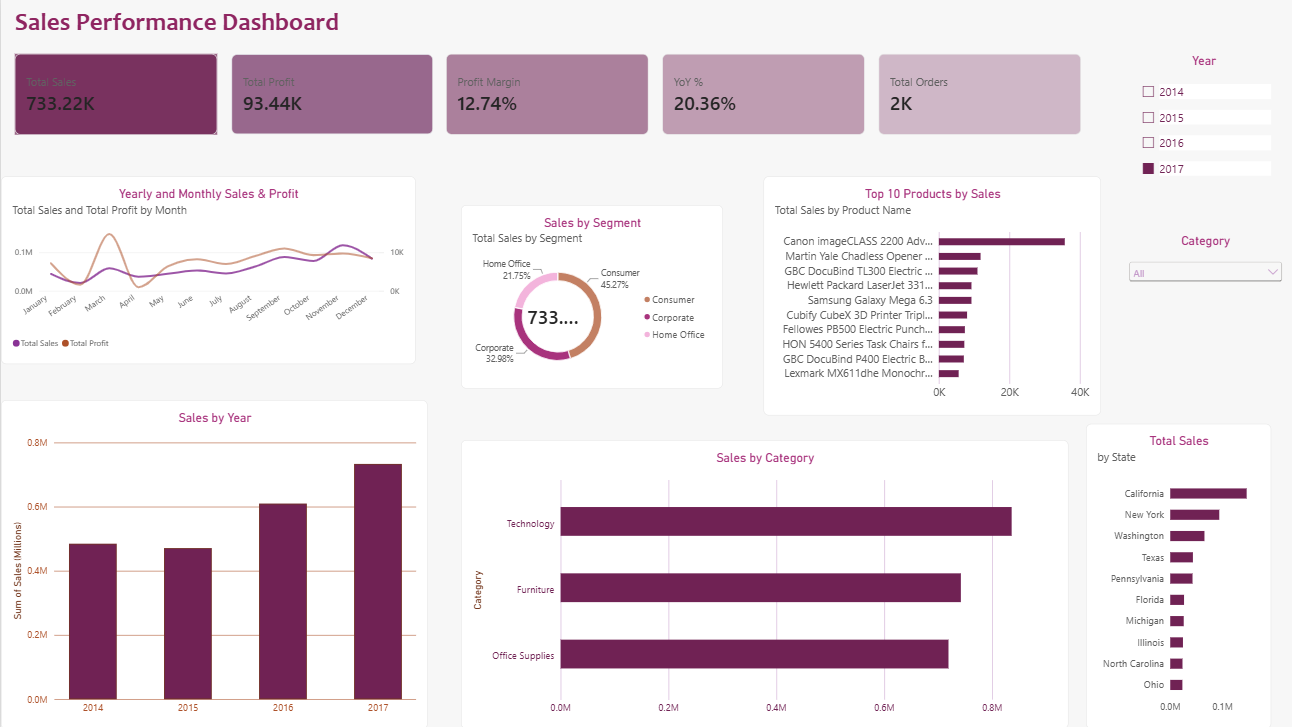

The page's visual inventory and layout, read from the dashboard file:
{"tool":"powerbi","page":{"name":"Page 1","canvas":[1920,1080],"ordinal":0},"visuals":[{"type":"cardVisual","title":"Profit Margin ","fields":{"Data":["sales_cleaned.Profit Margin"]},"box":[660,80,300,120],"z":0},{"type":"cardVisual","title":"Total Profit ","fields":{"Data":["sales_cleaned.Total Profit"]},"box":[340,80,300,120],"z":1000},{"type":"cardVisual","title":"Total Sales ","fields":{"Data":["sales_cleaned.Total Sales"]},"box":[20,80,300,120],"z":2000},{"type":"clusteredColumnChart","title":"Sales by Year ","fields":{"Category":["sales_cleaned.Order Date.Variation.Date Hierarchy.Year"],"Y":["Sum(sales_cleaned.Sales)"]},"box":[0,592,632,488],"z":3000},{"type":"clusteredBarChart","title":"Sales by Category","fields":{"Category":["sales_cleaned.Category"],"Y":["Sum(sales_cleaned.Sales)"]},"box":[682,652,900,428],"z":4000},{"type":"slicer","title":"Year","fields":{"Values":["sales_cleaned.Order Year"]},"box":[1684,80,198,262],"z":5000},{"type":"slicer","title":"Category","fields":{"Values":["sales_cleaned.Category"]},"box":[1684,324,236,268],"z":6000},{"type":"lineChart","title":"Yearly and Monthly Sales & Profit","fields":{"Category":["sales_cleaned.Order Date.Variation.Date Hierarchy.Year","sales_cleaned.Order Date.Variation.Date Hierarchy.Month"],"Y":["sales_cleaned.Total Sales"],"Y2":["sales_cleaned.Total Profit"]},"box":[0,262,614,278],"z":7000},{"type":"clusteredBarChart","title":"Top 10 Products by Sales","fields":{"Category":["sales_cleaned.Product Name"],"Y":["sales_cleaned.Total Sales"]},"box":[1130,262,500,354],"z":8000},{"type":"cardVisual","title":"YoY Growth","fields":{"Data":["sales_cleaned.YoY %"]},"box":[980,80,300,120],"z":9000},{"type":"cardVisual","title":"Total Orders ","fields":{"Data":["sales_cleaned.Total Orders"]},"box":[1300,80,300,120],"z":10000},{"type":"donutChart","title":"Sales by Segment","fields":{"Category":["sales_cleaned.Segment"],"Y":["sales_cleaned.Total Sales"]},"box":[682,304,388,272],"z":11000},{"type":"barChart","fields":{"Category":["sales_cleaned.State"],"Y":["sales_cleaned.Total Sales"]},"box":[1608,628,274,452],"z":12000},{"type":"textbox","title":"Sales Performance Dashboard ","box":[20,10,1000,60],"z":15000}]}

Visuals, with their boxes in screenshot pixels (x1, y1, x2, y2), scaled from the page's 1920x1080 canvas onto the 1292x727 screenshot:
"Profit Margin " cardVisual: (x1=444, y1=54, x2=646, y2=135)
"Total Profit " cardVisual: (x1=229, y1=54, x2=431, y2=135)
"Total Sales " cardVisual: (x1=13, y1=54, x2=215, y2=135)
"Sales by Year " clusteredColumnChart: (x1=0, y1=399, x2=425, y2=726)
"Sales by Category" clusteredBarChart: (x1=459, y1=439, x2=1065, y2=726)
"Year" slicer: (x1=1133, y1=54, x2=1266, y2=230)
"Category" slicer: (x1=1133, y1=218, x2=1291, y2=399)
"Yearly and Monthly Sales & Profit" lineChart: (x1=0, y1=176, x2=413, y2=364)
"Top 10 Products by Sales" clusteredBarChart: (x1=760, y1=176, x2=1097, y2=415)
"YoY Growth" cardVisual: (x1=659, y1=54, x2=861, y2=135)
"Total Orders " cardVisual: (x1=875, y1=54, x2=1077, y2=135)
"Sales by Segment" donutChart: (x1=459, y1=205, x2=720, y2=388)
barChart - sales_cleaned.State x sales_cleaned.Total Sales: (x1=1082, y1=423, x2=1266, y2=726)
"Sales Performance Dashboard " textbox: (x1=13, y1=7, x2=686, y2=47)
